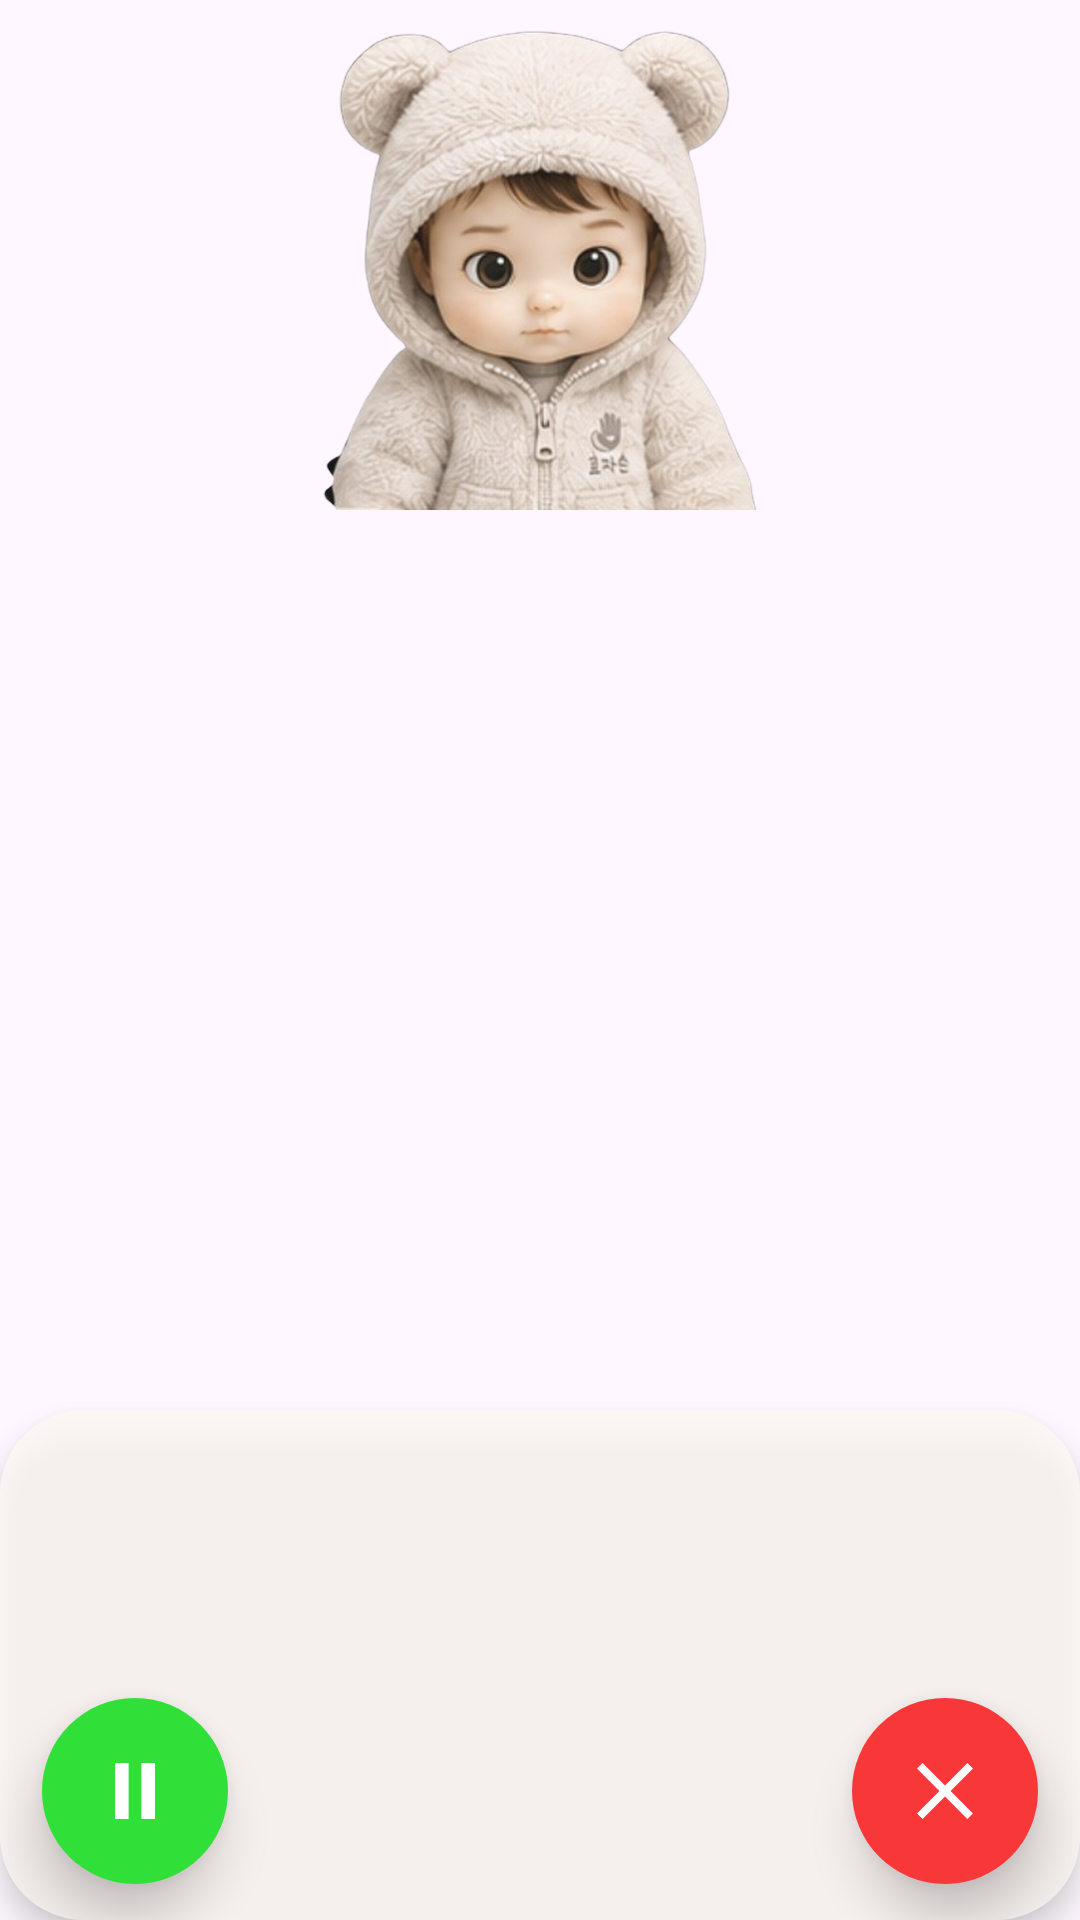

Where icons sit on this 1080*1920 app screen, as (x1, y1, x2, y2):
종료하기: (852, 1698, 1038, 1884)
중단하기: (42, 1698, 228, 1884)
